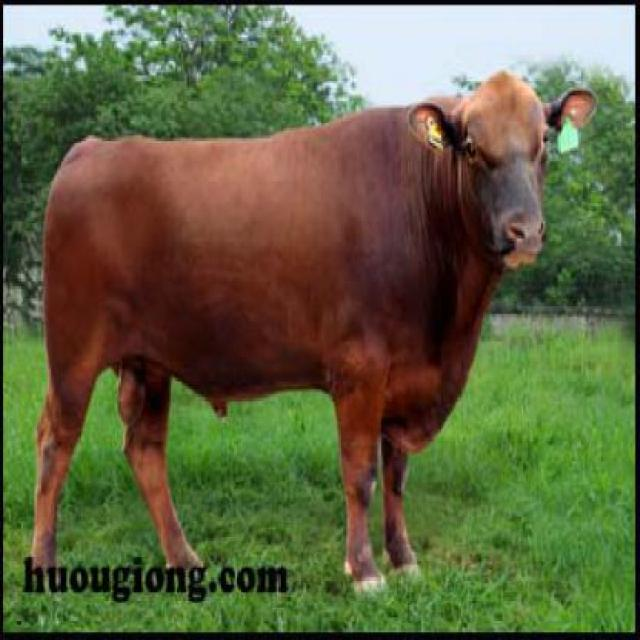Cow: (26, 68, 600, 592)
